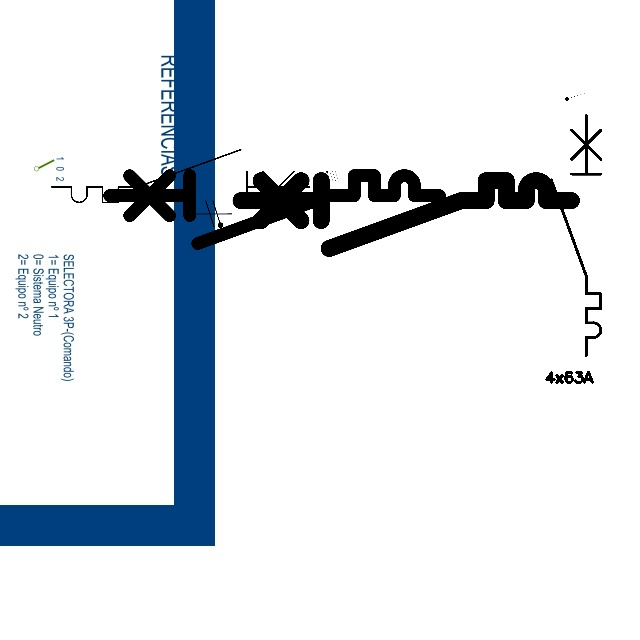interruptor_termomagnetico: (232, 172, 579, 257), (101, 167, 448, 252), (45, 143, 316, 209), (545, 109, 607, 362)
